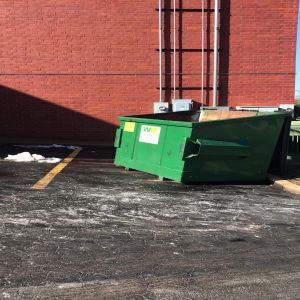Dumpster: (112, 104, 298, 189)
